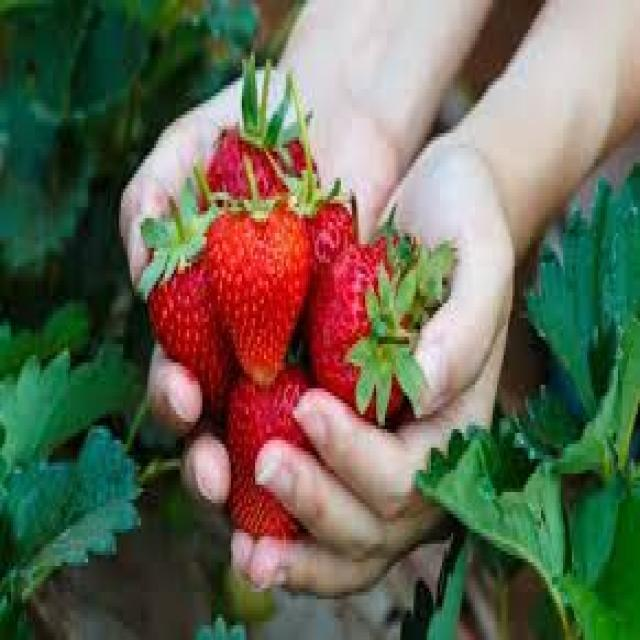Fruta sana: (316, 204, 436, 403), (205, 204, 313, 377), (226, 360, 321, 536), (147, 238, 236, 403), (188, 138, 318, 232)
